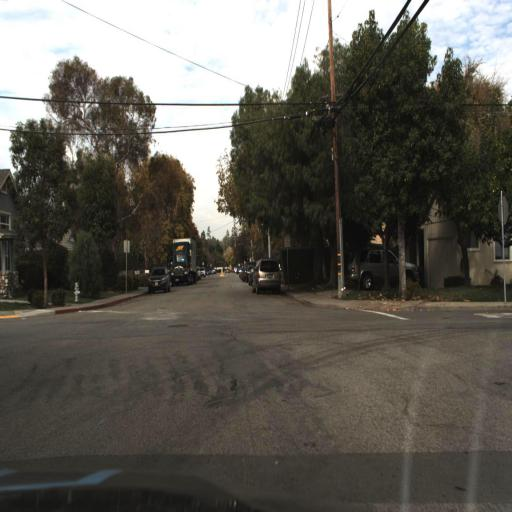car: (343, 243, 423, 294), (251, 256, 284, 290), (250, 257, 281, 293), (145, 266, 170, 294), (148, 265, 169, 295)
truck: (168, 236, 198, 282)
